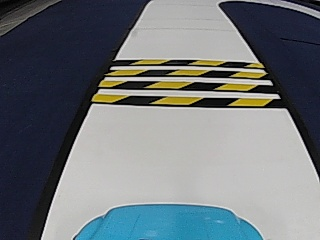bump: (118, 58, 250, 111)
